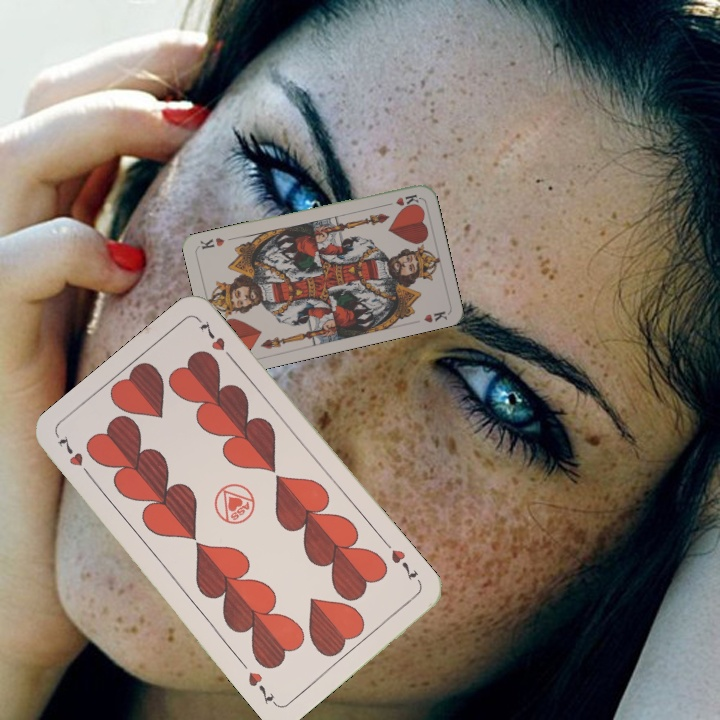H7: (54, 431, 95, 482), (386, 545, 421, 584)
HK: (381, 191, 421, 209)
